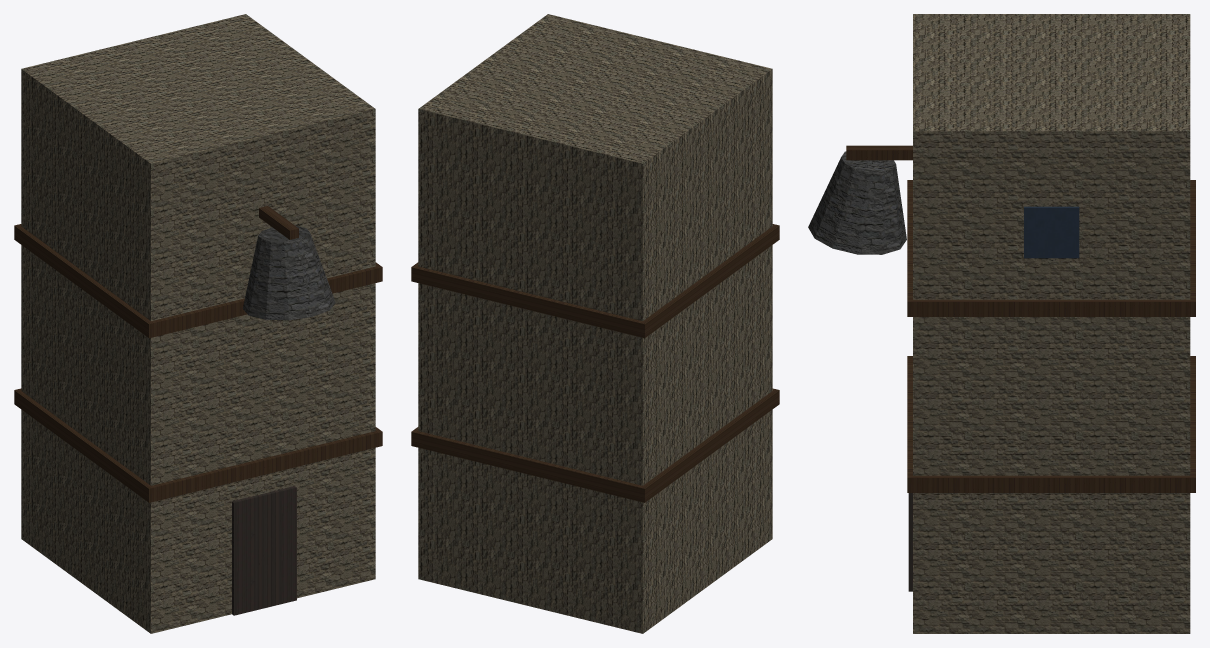
The model's file is bell_tower_01.glb.
3 views of the same model, side by side, from view 1: azimuth 30°, elevation 25°; view 2: azimuth 150°, elevation 25°; view 3: azimuth 270°, elevation 25° (orthographic). The views are drawn at different scales.
Parts seen in each view (by area): view 1: bell_tower_01; view 2: bell_tower_01; view 3: bell_tower_01.
Part boxes in pixels (x1,y1,x2,y2): bell_tower_01: [14, 14, 382, 633]; bell_tower_01: [411, 14, 779, 633]; bell_tower_01: [808, 14, 1195, 633].
Size of the model in its own units: 5.2 by 10 by 6.99.
Materials: 5 (5 with a texture image).
